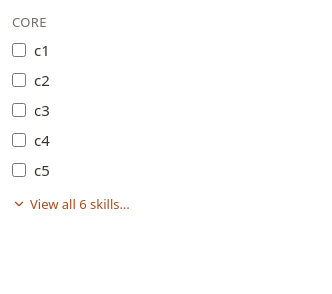
Test: a section with no visible rows renders no heading
Check: the text "Your skills" is not shown
Check: the text "Core" is shown, box [12,13,47,31]
Click the button "View all 6 skills…" at (71, 204), box [12,194,130,214]
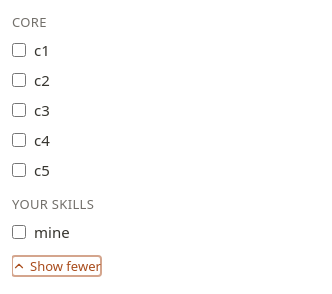
Check: the text "Your skills" is shown, box [12,195,94,213]
